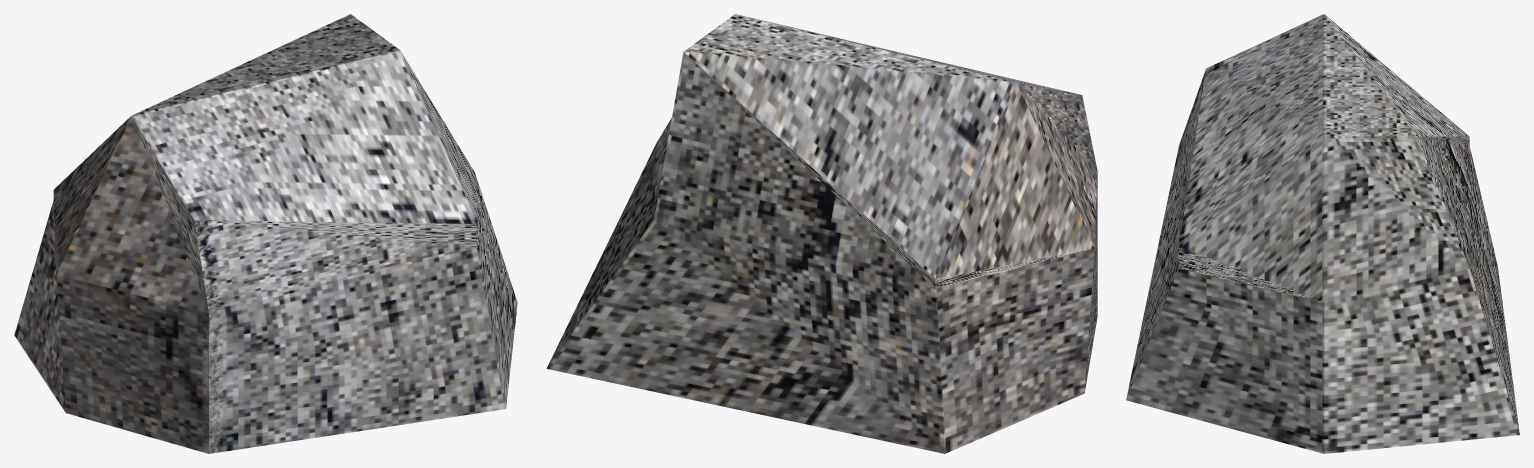
File: Rock1.fbx
3 renders of one model, left to right at view 1: azimuth 30°, elevation 25°; view 2: azimuth 150°, elevation 25°; view 3: azimuth 270°, elevation 25°, orthographic. The views are drawn at different scales.
Parts seen in each view (by area): view 1: Cube; view 2: Cube; view 3: Cube.
Boxes of the visible parts, box(x1,y1,x2,y2) form: Cube: box(14, 14, 517, 453); Cube: box(546, 14, 1097, 453); Cube: box(1126, 14, 1519, 453).
Bounding box in the file's own units: 343 × 200 × 271.
Materials: 1 (1 with a texture image).
